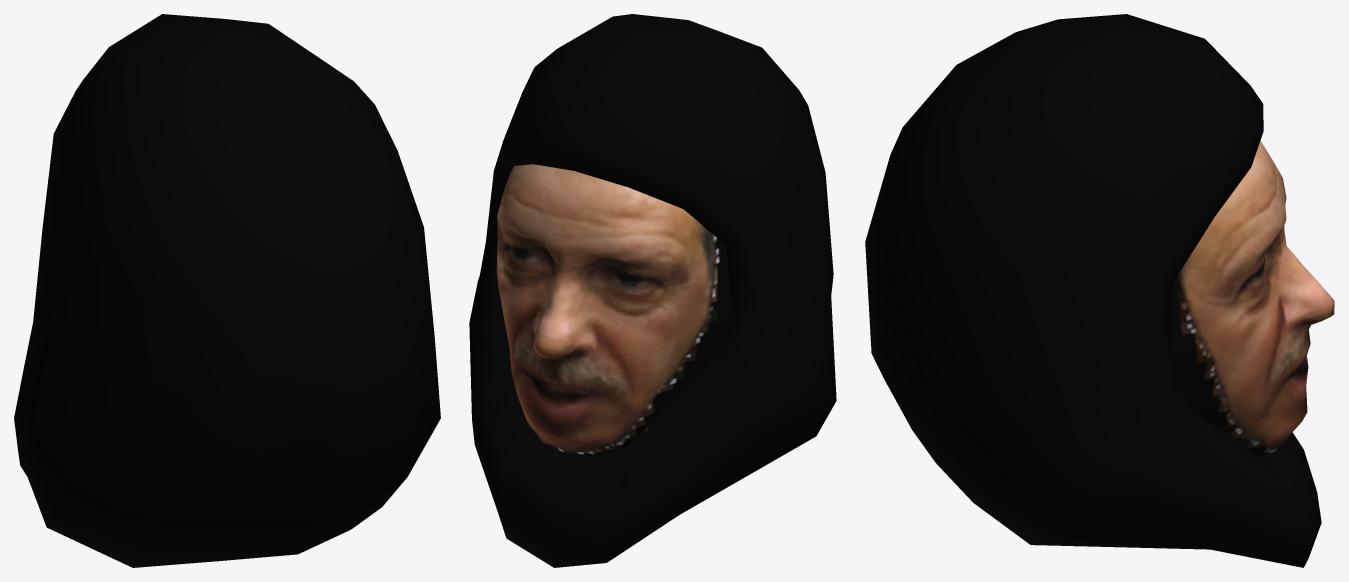
Rendered from erd.ef444ecd.gltf.
3 renders of one model, left to right at view 1: azimuth 30°, elevation 25°; view 2: azimuth 150°, elevation 25°; view 3: azimuth 270°, elevation 25°, orthographic. The views are drawn at different scales.
Parts seen in each view (by area): view 1: ErdoganMaskGiver1; view 2: ErdoganMaskGiver1; view 3: ErdoganMaskGiver1.
Part boxes in pixels (box(x1,y1,x2,y2)): ErdoganMaskGiver1: box(14, 14, 440, 567); ErdoganMaskGiver1: box(469, 14, 836, 567); ErdoganMaskGiver1: box(865, 14, 1334, 567).
Size of the model in its own units: 1.63 by 2.24 by 1.8.
1 material, 1 textured.
